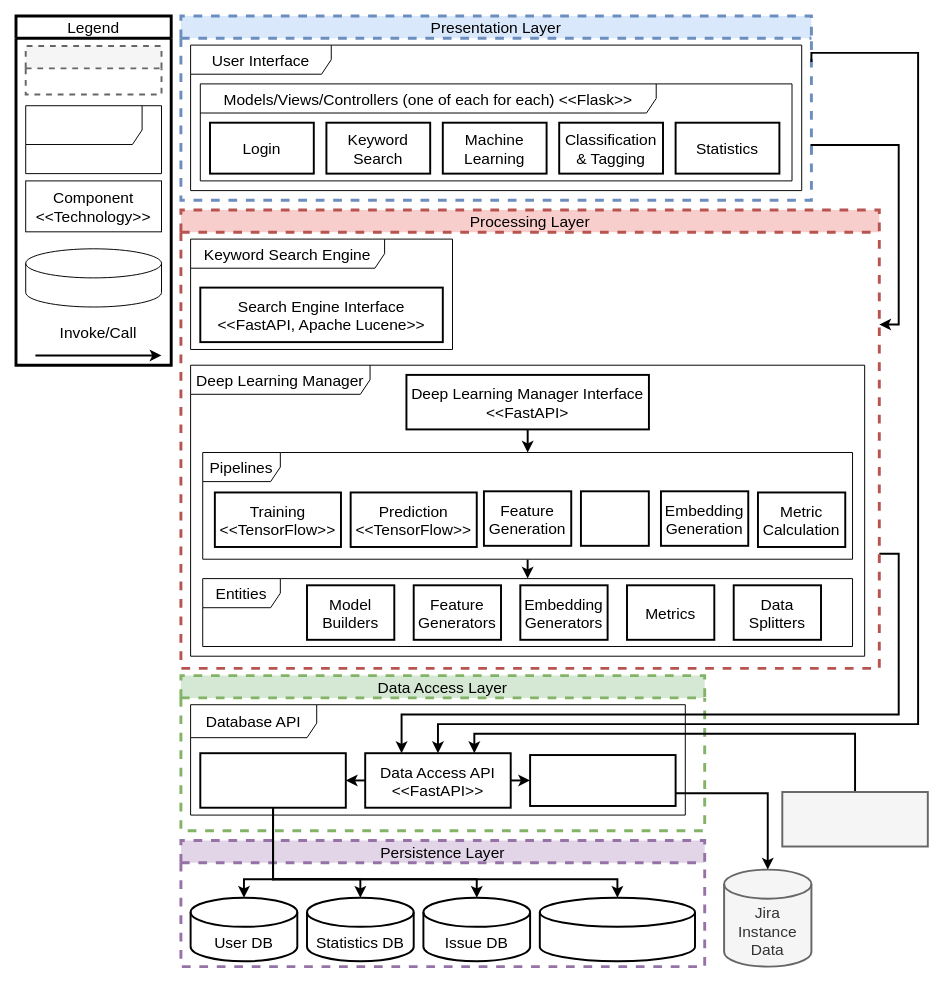
This 944x983 diagram has some shape labels left out. The centre of each missing label's shape, as x and y in pixels:
Data Splitting: [614,518]
Data Store: [93,277]
External Data Retriever: [602,780]
High Level Component: [93,139]
Internal Data Manager: [272,780]
Layer: [93,70]
ML + Annotation DB: [616,929]
Source Code Analyser: [854,819]
